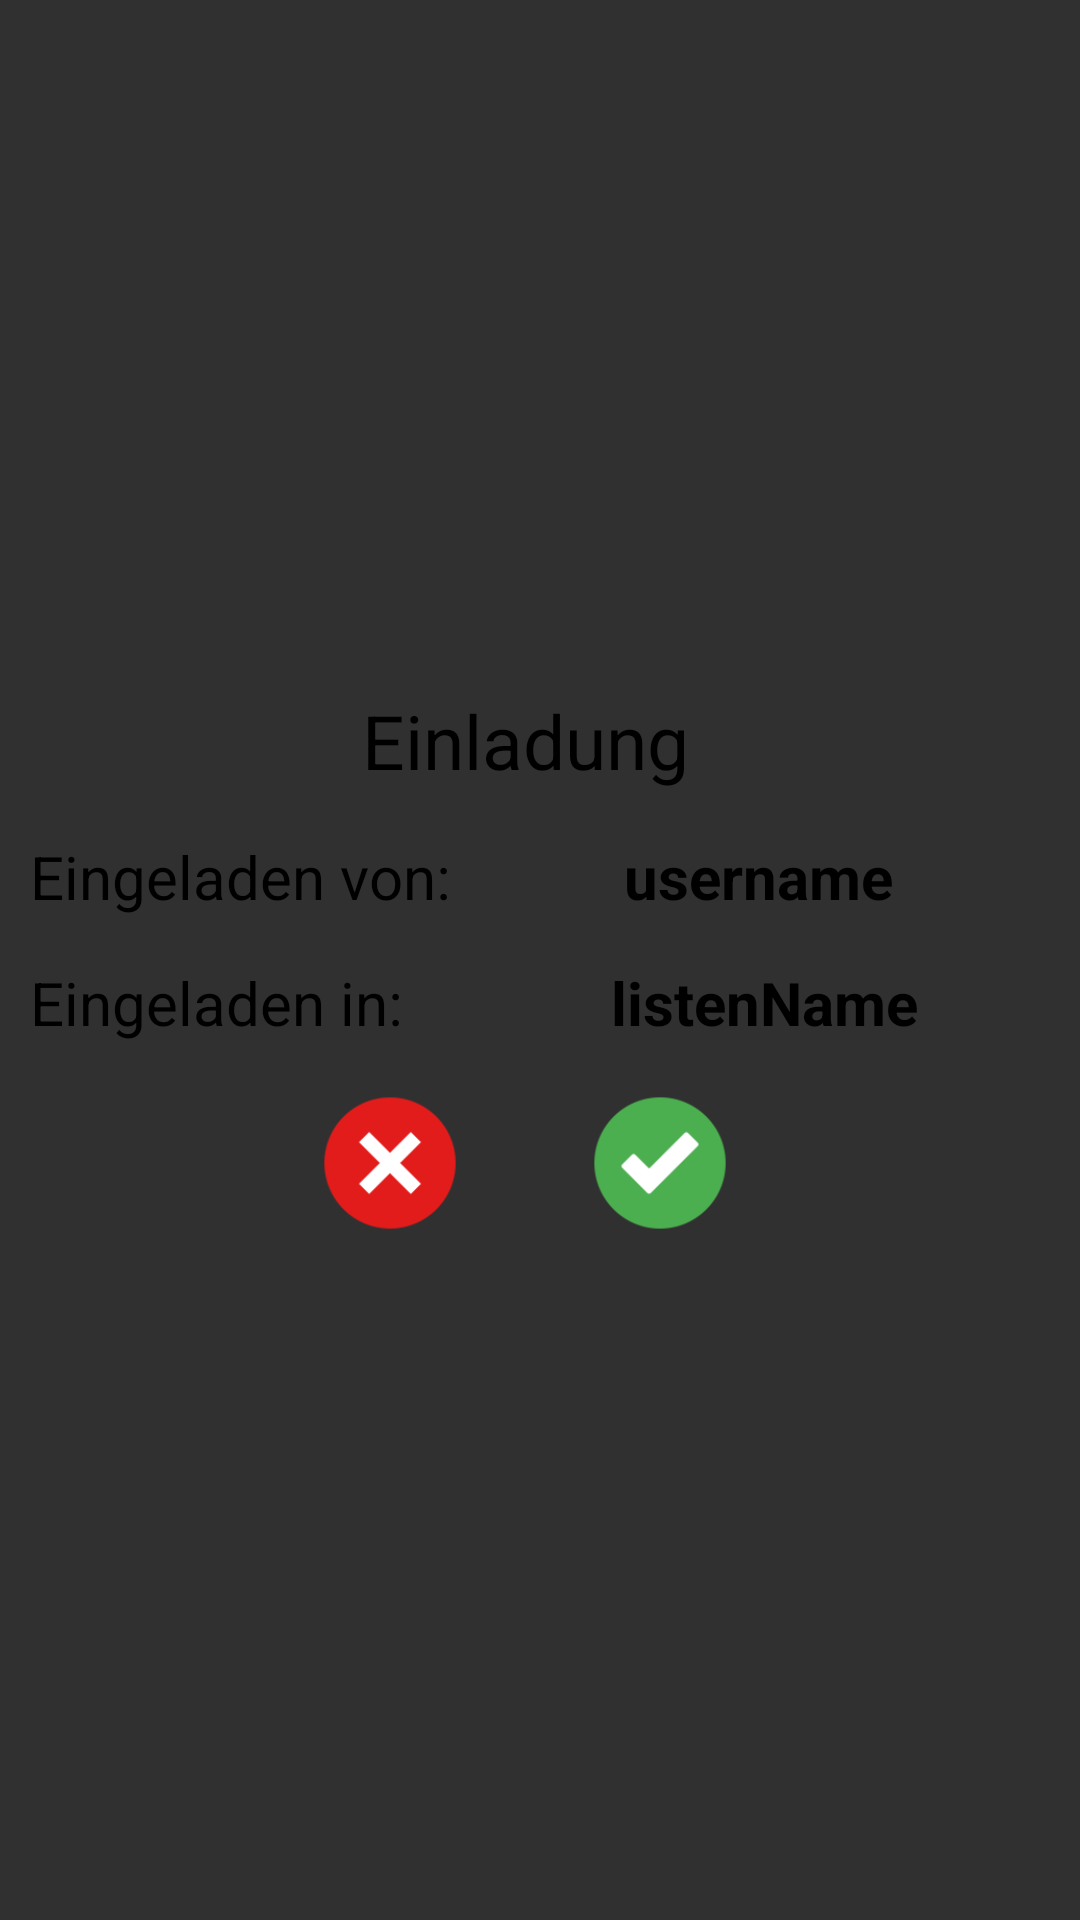

Icons on this 1080px×1920px Android screen, each with the point to tap as (x=x, y=y):
accept: (x=660, y=1163)
cancel: (x=390, y=1163)
